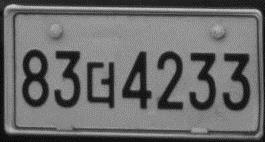2: (155, 50, 184, 111)
3: (51, 49, 82, 108), (187, 51, 216, 110), (221, 52, 250, 110)
4: (120, 49, 152, 110)
8: (21, 47, 49, 107)
더: (85, 61, 116, 109)
